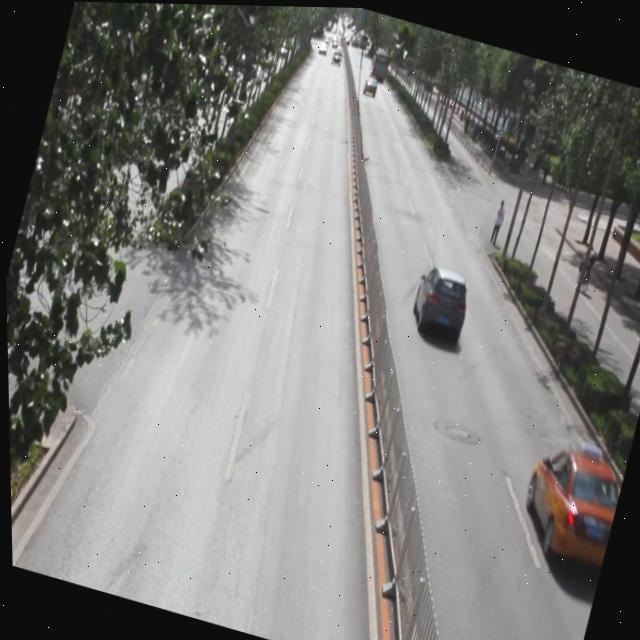car: (508, 434, 626, 565), (403, 256, 475, 344)
